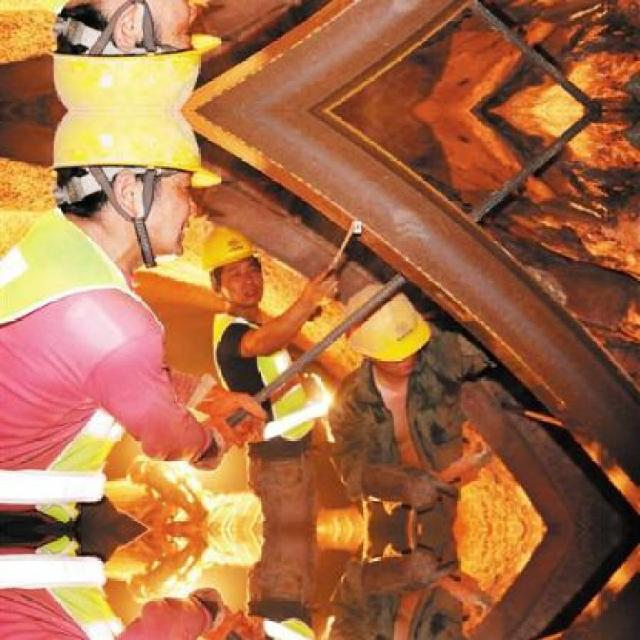helmet: (42, 110, 222, 268), (42, 0, 223, 109), (338, 282, 432, 383), (189, 219, 269, 310)
